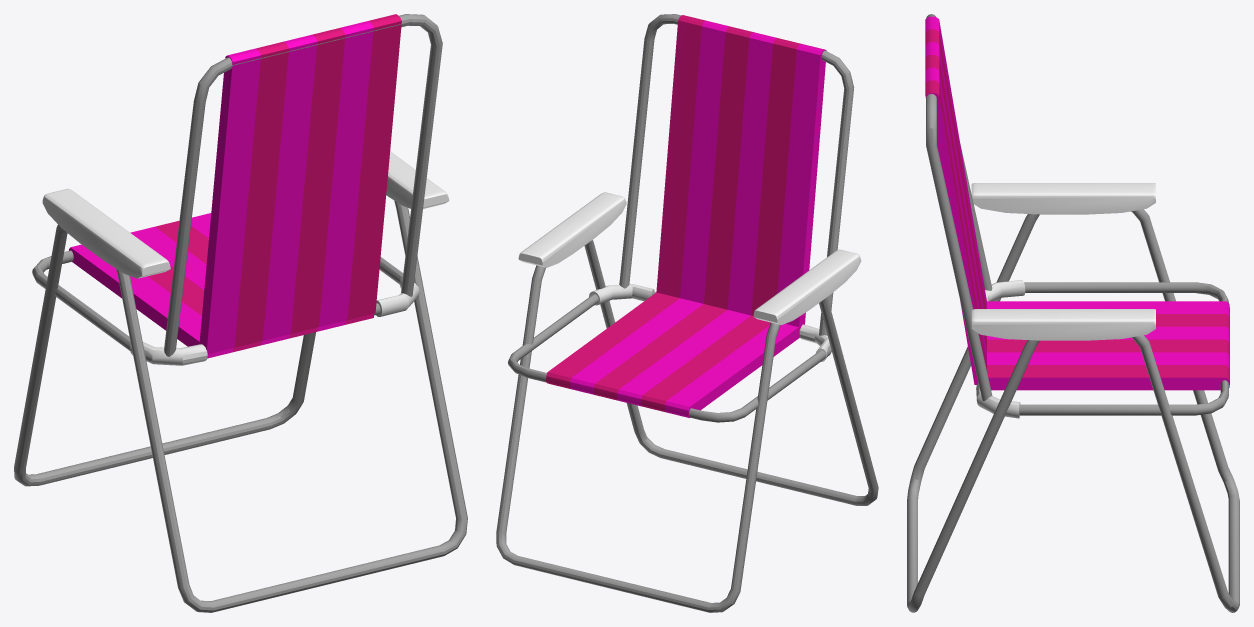
Rendered from cadeira1.fbx.
3 views of the same model, side by side, from view 1: azimuth 30°, elevation 25°; view 2: azimuth 150°, elevation 25°; view 3: azimuth 270°, elevation 25° (orthographic). The views are drawn at different scales.
Visible parts, largest first — view 1: Cube.001; view 2: Cube.001; view 3: Cube.001.
Boxes of the visible parts, x1,y1,x2,y2 form: Cube.001: [14, 14, 467, 612]; Cube.001: [496, 14, 878, 612]; Cube.001: [907, 14, 1239, 612].
Size of the model in its own units: 118 by 199 by 120.
6 materials, 6 textured.
